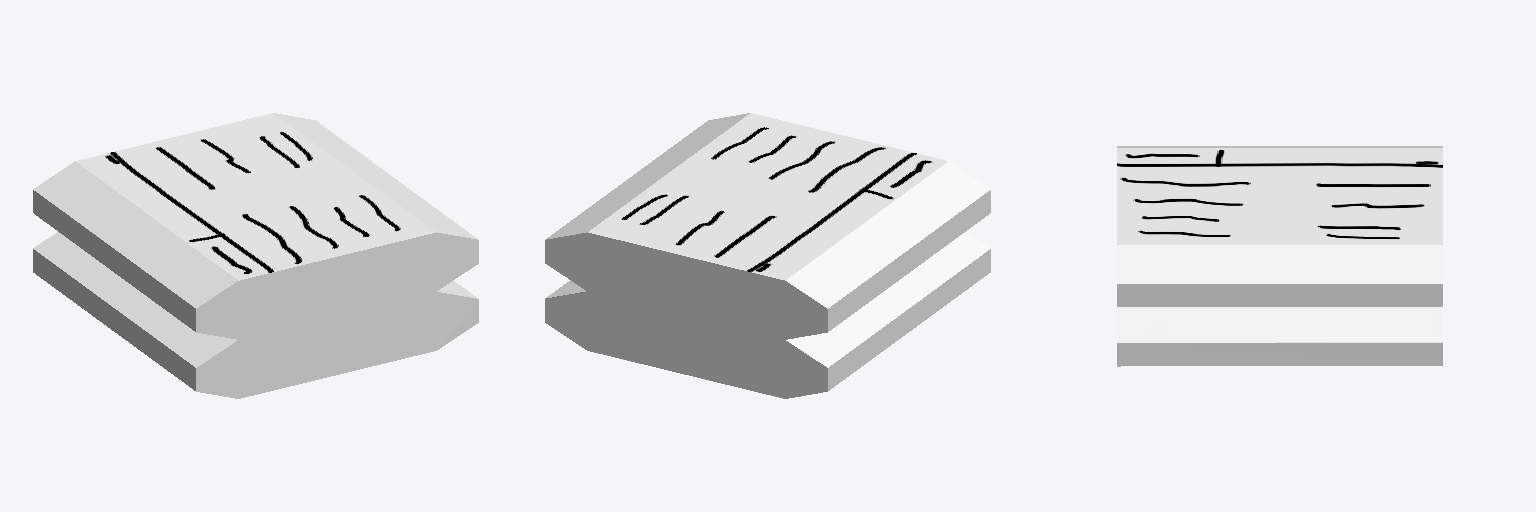
3 renders of one model, left to right at view 1: azimuth 30°, elevation 25°; view 2: azimuth 150°, elevation 25°; view 3: azimuth 270°, elevation 25°, orthographic.
Visible parts, largest first — view 1: Cube; view 2: Cube; view 3: Cube.
Part boxes in pixels (bbox=[...]): Cube: bbox=[33, 113, 478, 398]; Cube: bbox=[545, 113, 990, 398]; Cube: bbox=[1117, 146, 1442, 366].
Size of the model in its own units: 2 by 0.8 by 2.
Materials: 1 (1 with a texture image).